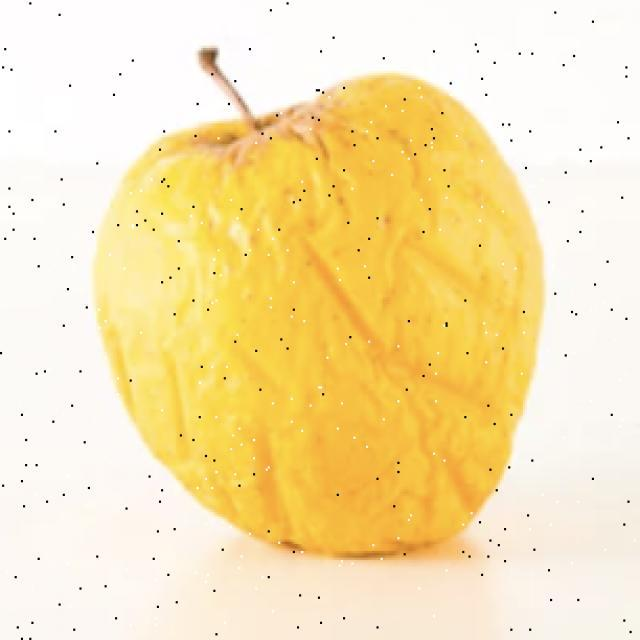Rotten: (105, 88, 553, 590)
